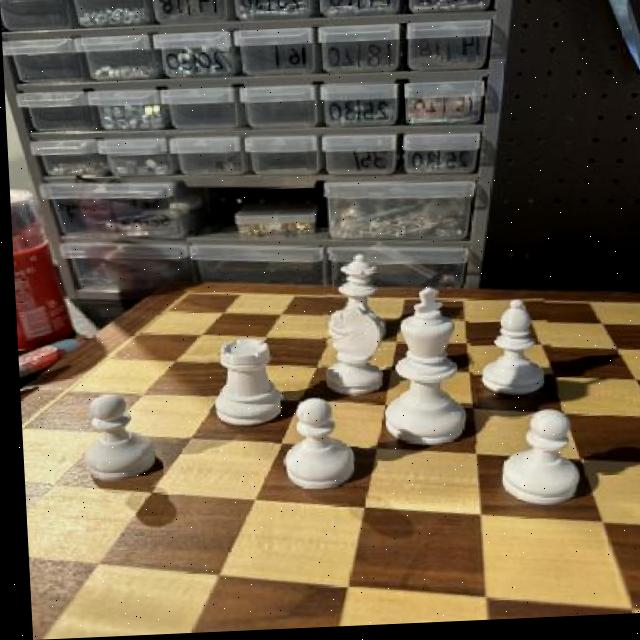black-rook: (459, 301, 551, 403)
white-bishop: (365, 289, 471, 454)
white-king: (313, 309, 389, 404)
white-knight: (489, 411, 582, 515), (266, 397, 356, 500), (76, 391, 158, 486)
white-pawn: (318, 255, 390, 349)
white-queen: (201, 337, 279, 434)
